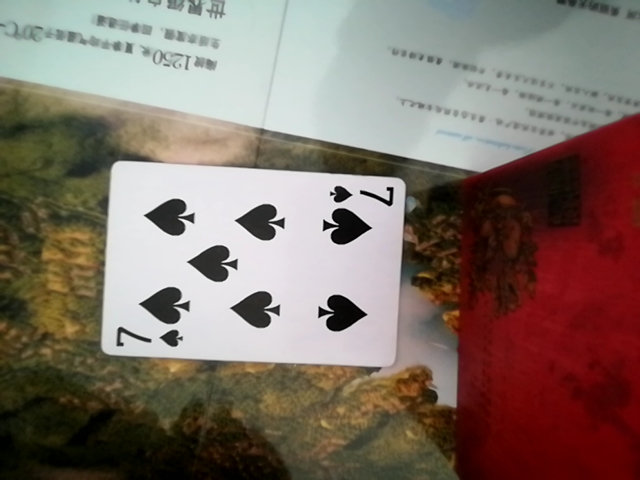ht 7: (94, 161, 417, 372)
